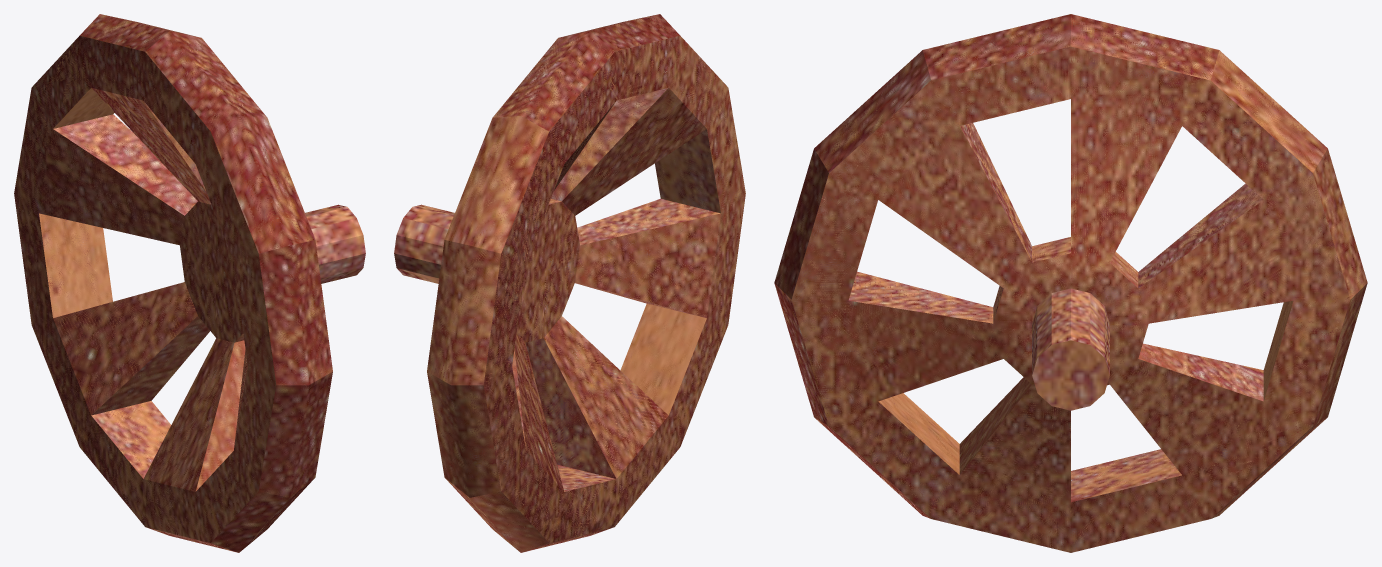
File: Pipe_wheel.fbx
The picture shows the model from 3 angles, left to right: view 1: azimuth 30°, elevation 25°; view 2: azimuth 150°, elevation 25°; view 3: azimuth 270°, elevation 25°; orthographic projection. The views are drawn at different scales.
Parts seen in each view (by area): view 1: polySurface1; view 2: polySurface1; view 3: polySurface1.
Part boxes in pixels (x1,y1,x2,y2): polySurface1: (14, 14, 365, 552); polySurface1: (394, 14, 745, 552); polySurface1: (774, 14, 1367, 552).
Bounding box in the file's own units: 0.4235 × 1 × 1.
